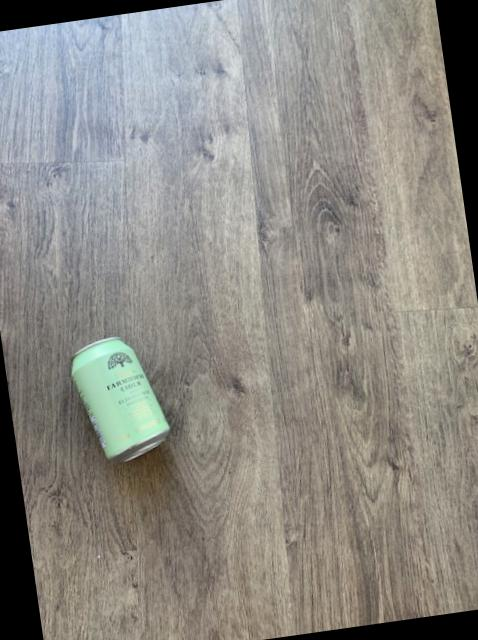metal: (69, 335, 167, 460)
